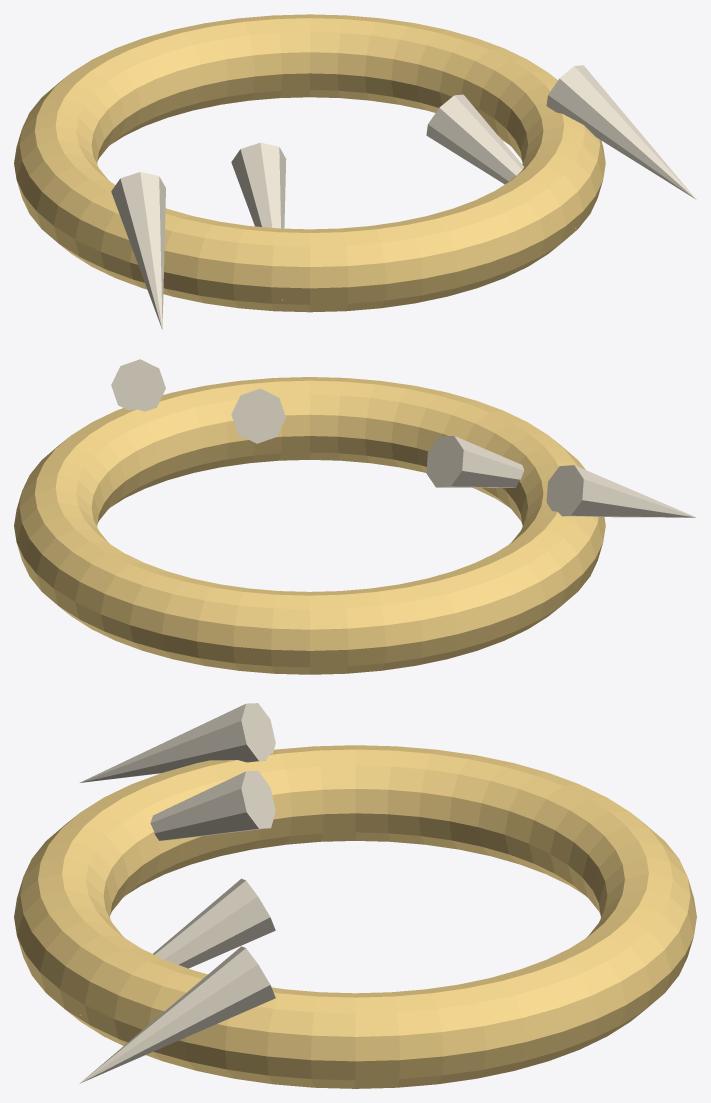
File: SM_Keeper_Sokar_Talons.fbx
3 views of the same model, one above another, from view 1: azimuth 30°, elevation 25°; view 2: azimuth 150°, elevation 25°; view 3: azimuth 270°, elevation 25° (orthographic). The views are drawn at different scales.
Visible parts, largest first — view 1: SM_Keeper_Sokar_Talons; view 2: SM_Keeper_Sokar_Talons; view 3: SM_Keeper_Sokar_Talons.
Boxes of the visible parts, left/top/right/bottom form: SM_Keeper_Sokar_Talons: left=14, top=14, right=696, bottom=329; SM_Keeper_Sokar_Talons: left=14, top=359, right=696, bottom=674; SM_Keeper_Sokar_Talons: left=14, top=703, right=696, bottom=1088.
Bounding box in the file's own units: 1.33 × 0.2786 × 1.28.
